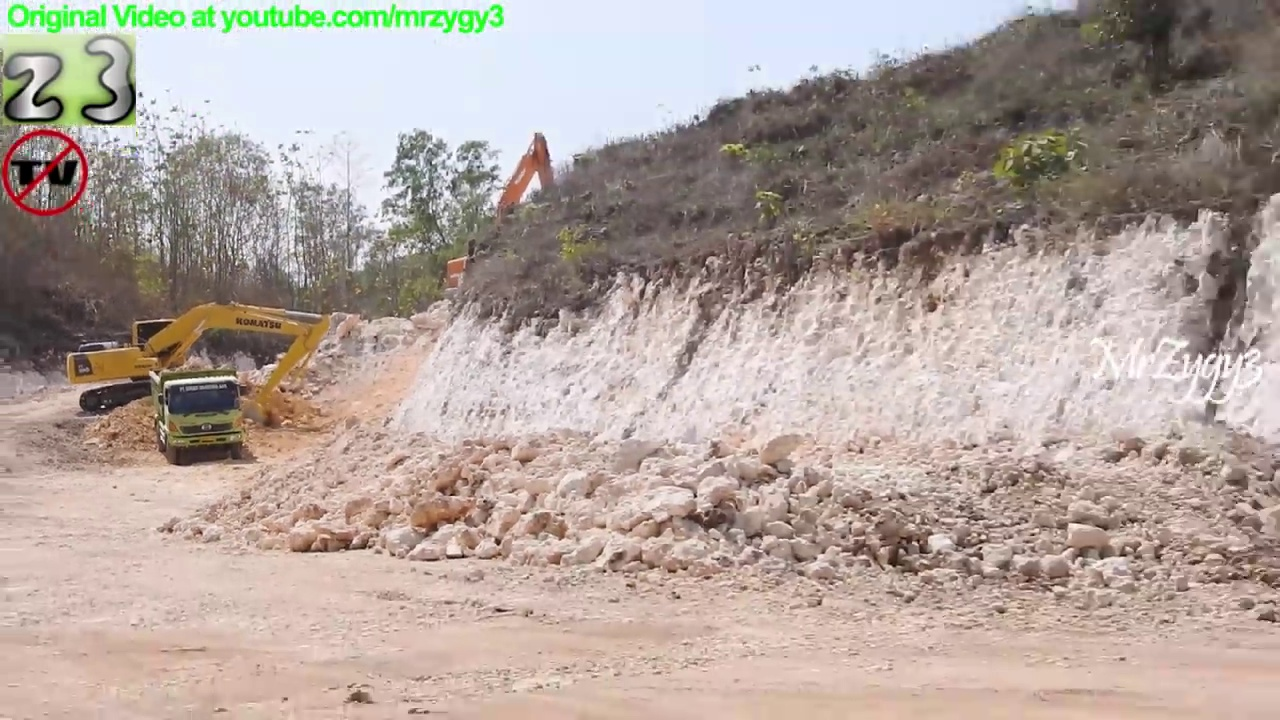excavator: (64, 295, 338, 431), (441, 126, 571, 323)
truck: (144, 365, 253, 467)
